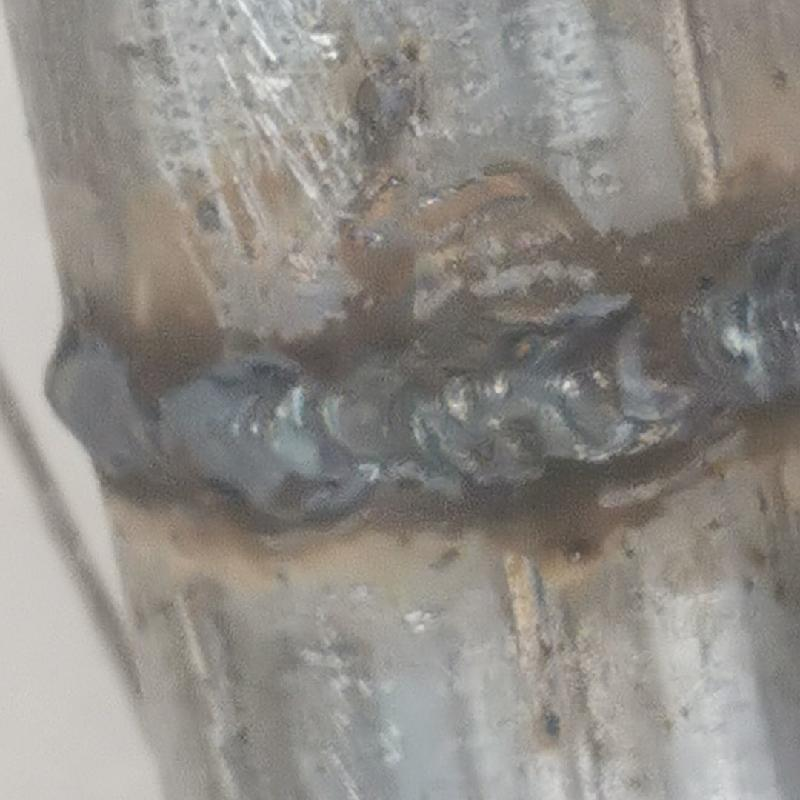good: (23, 242, 799, 522)
